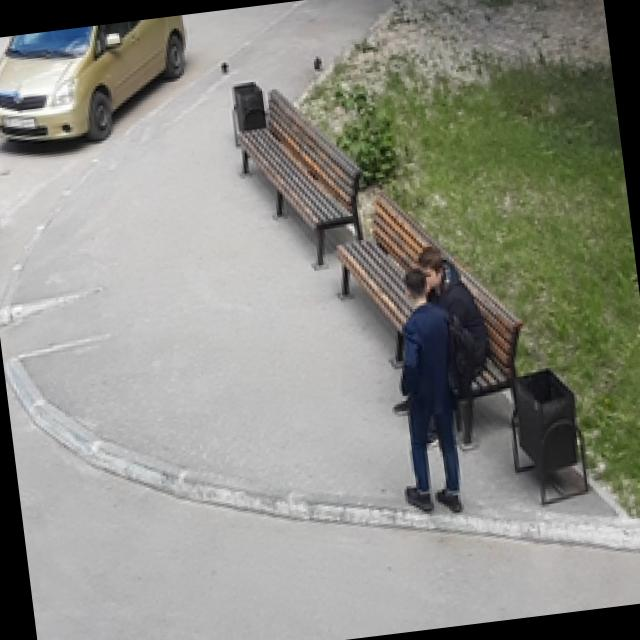person: (372, 240, 501, 452), (379, 264, 476, 513)
